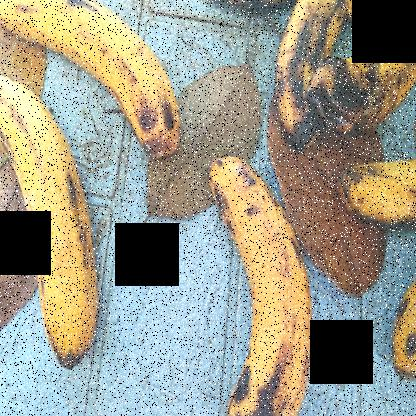overripe: (196, 149, 324, 415)
ripe: (0, 51, 102, 376), (1, 1, 185, 170)
rotten: (266, 1, 357, 161), (315, 1, 415, 136), (335, 135, 415, 244)
